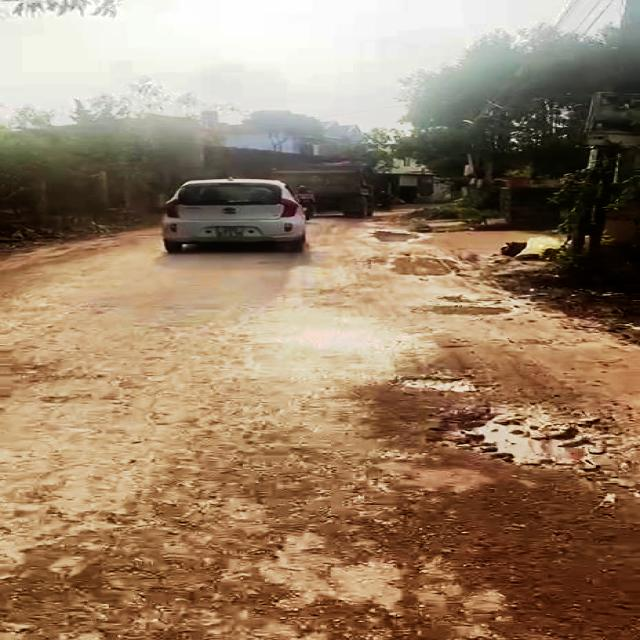pothole: (427, 408, 640, 489), (381, 254, 466, 278), (394, 373, 482, 395), (420, 303, 518, 320), (368, 229, 429, 244)
